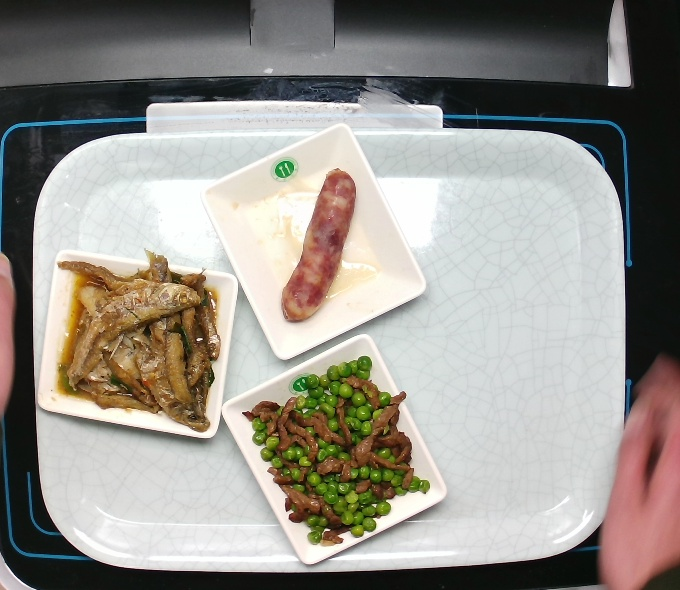wcq-CanDouNiuRou: (242, 354, 431, 546)
wcq-XiangChang: (279, 167, 358, 323)
wcq-XiaoJiYu: (57, 252, 221, 434)
